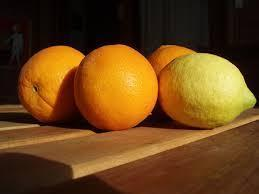lemon: (158, 53, 256, 128)
